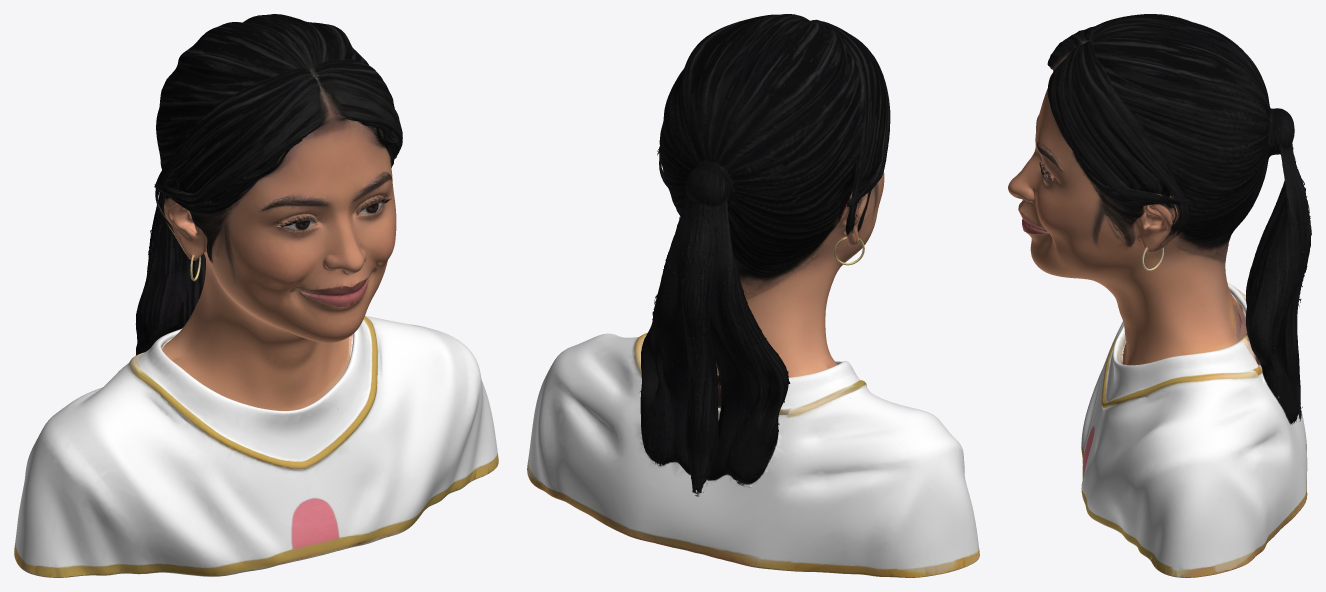
Rendered from Nina.glb.
3 renders of one model, left to right at view 1: azimuth 30°, elevation 25°; view 2: azimuth 150°, elevation 25°; view 3: azimuth 270°, elevation 25°, orthographic. The views are drawn at different scales.
Bounding box in the file's own units: 1.86 × 1.9 × 1.16.
Materials: 1 (1 with a texture image).
